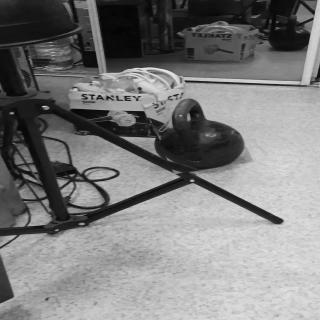kettlebell: (149, 96, 248, 173)
